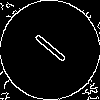I: (25, 25, 69, 65)
